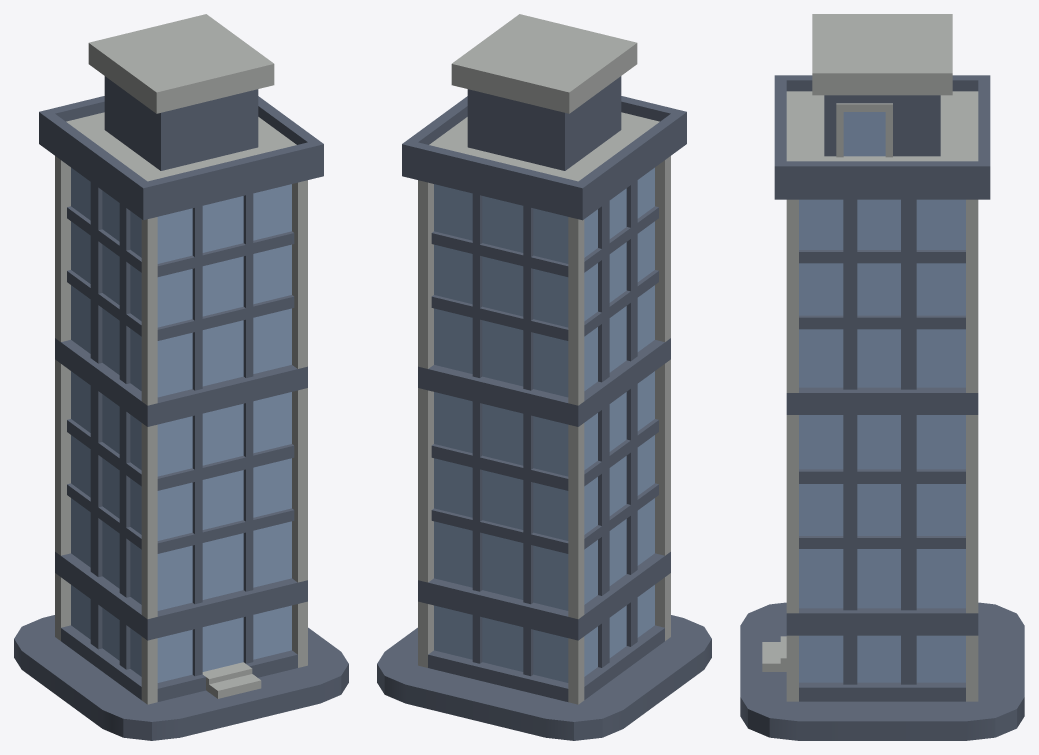
The model's file is Flat.fbx.
3 views of the same model, side by side, from view 1: azimuth 30°, elevation 25°; view 2: azimuth 150°, elevation 25°; view 3: azimuth 270°, elevation 25° (orthographic). The views are drawn at different scales.
Visible parts, largest first — view 1: Flat; view 2: Flat; view 3: Flat.
Part boxes in pixels (box(x1,y1,x2,y2)): Flat: box(14, 14, 348, 740); Flat: box(377, 14, 711, 740); Flat: box(740, 14, 1024, 740).
Size of the model in its own units: 11.7 by 28.89 by 11.7.
